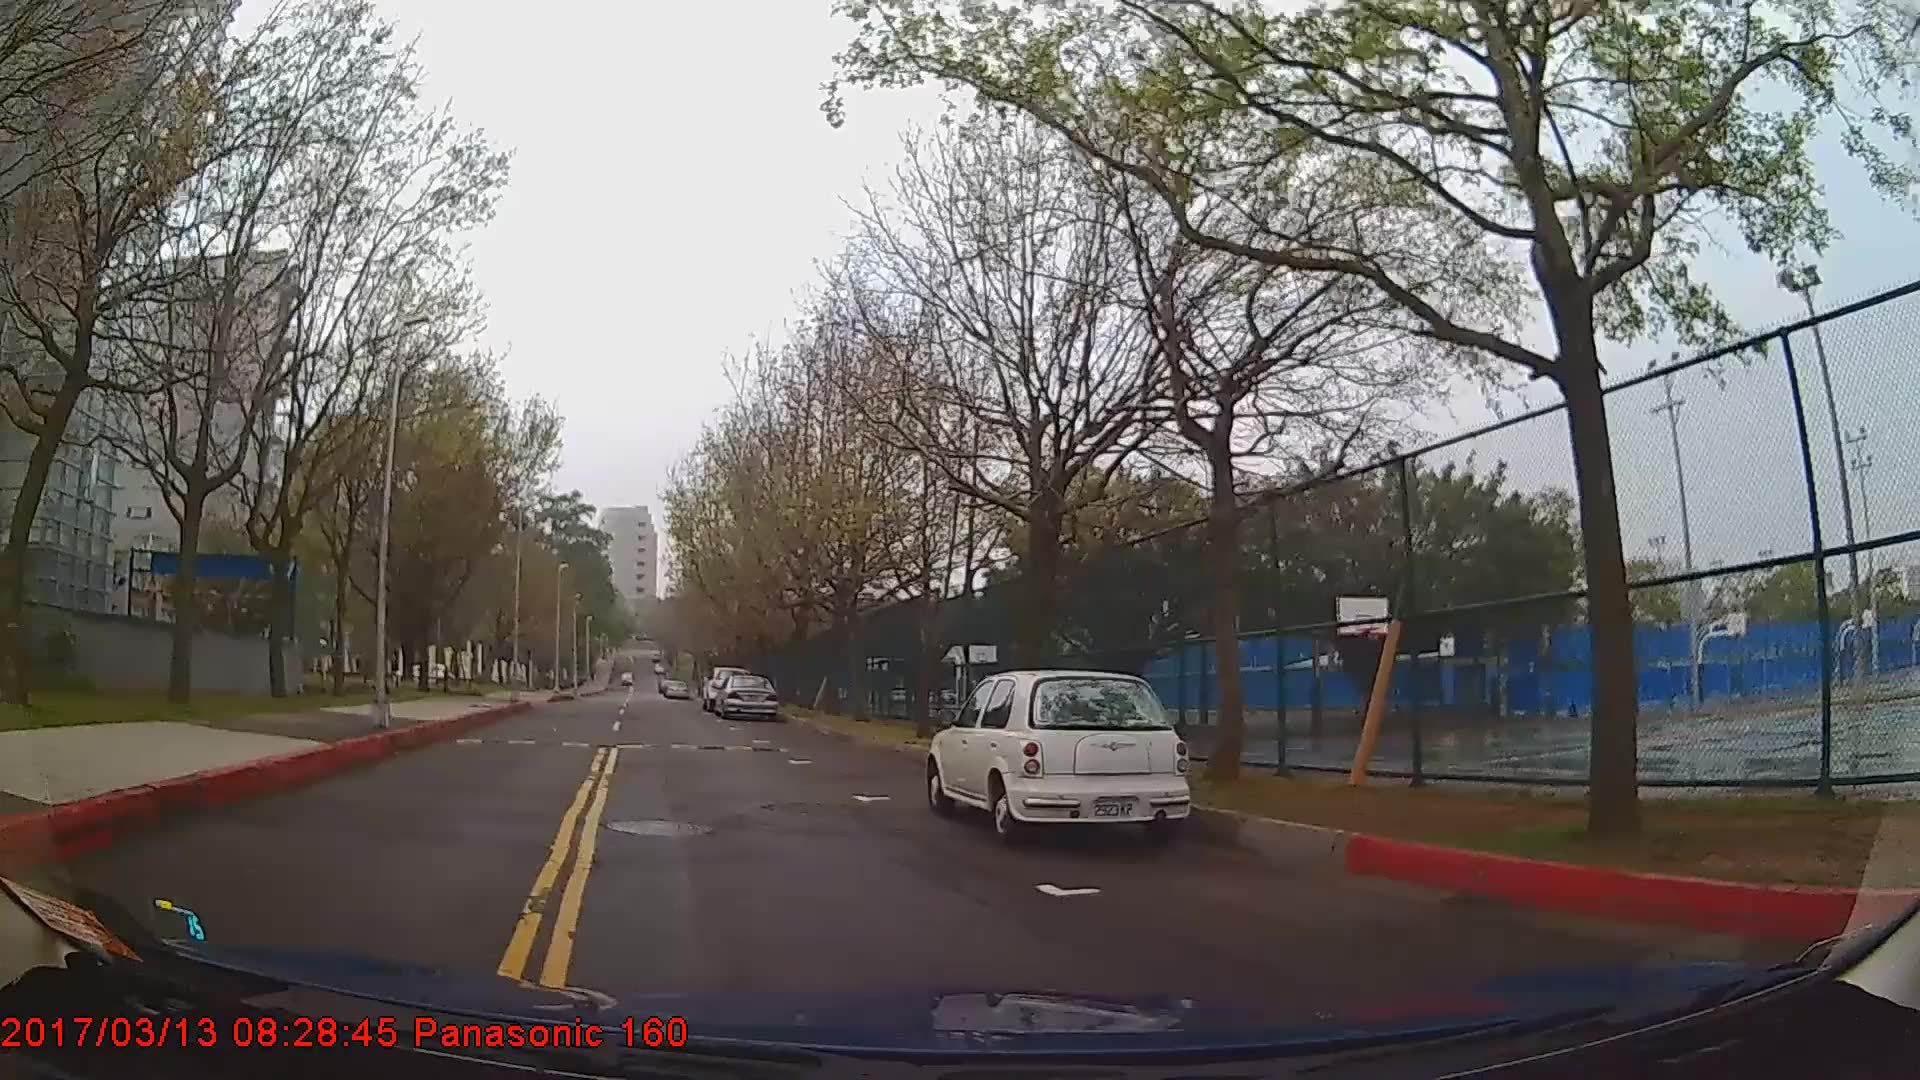vehicle: (923, 669, 1191, 841), (711, 673, 778, 717)
